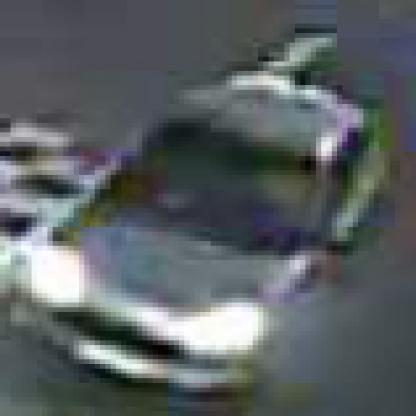car: (12, 63, 401, 413)
